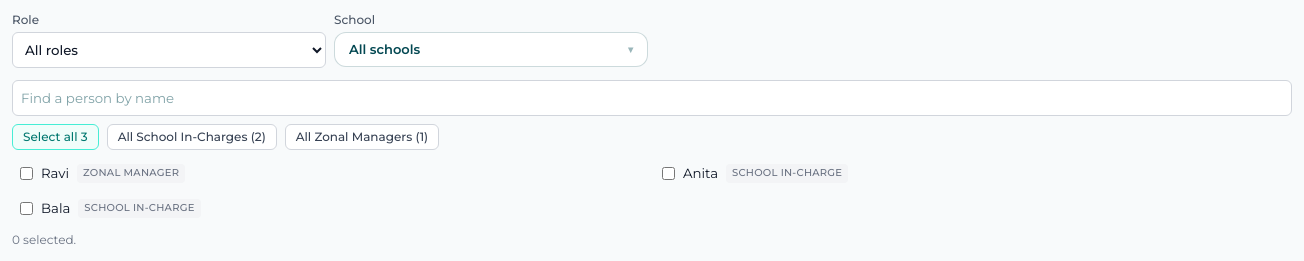
Test: AudiencePicker — who fills this in, independent of the Task Target › school filter keeps the people whose reach covers that school — the ZM above the in-charge too
Click the button "All schools ▾" at (385, 49), box [334,32,648,67]
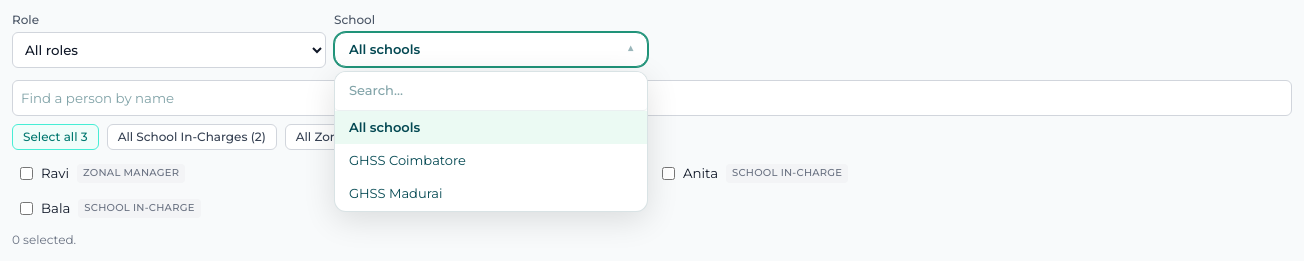
Type "coim" into the field with placeholder "Search…" at (491, 91), box [335,72,647,111]
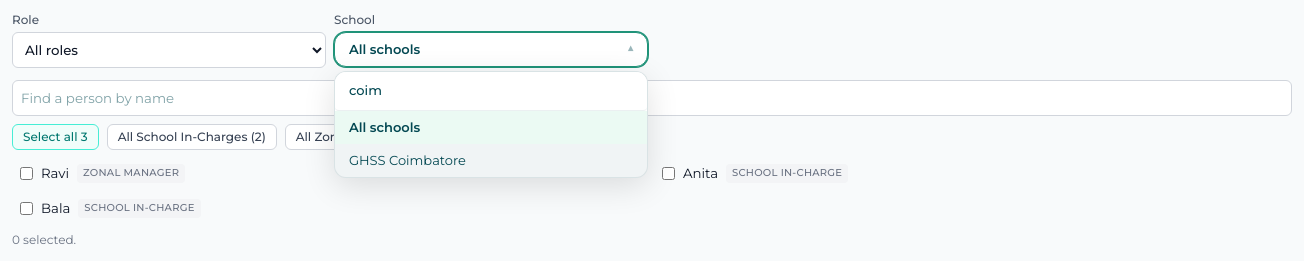
Expected: the button "GHSS Madurai" is gone
Click the button "GHSS Coimbatore" at (407, 160), box [335,144,647,177]
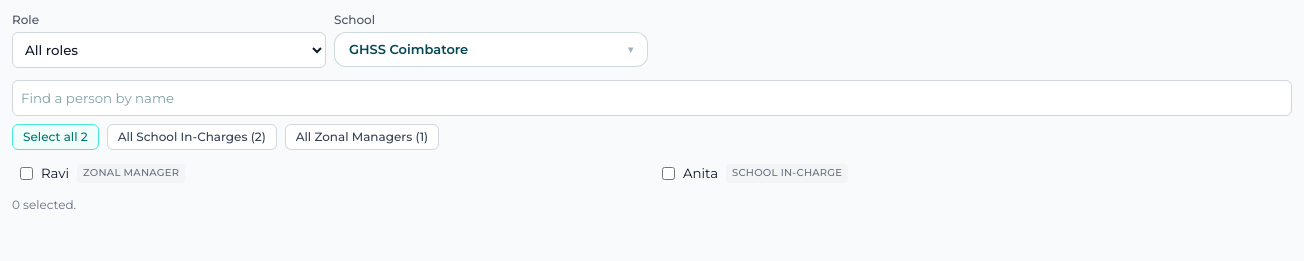
Expected: the checkbox labelled "Ravi Zonal Manager" is shown, [20,167,33,180]
Expected: the text labelled "Bala" is gone
